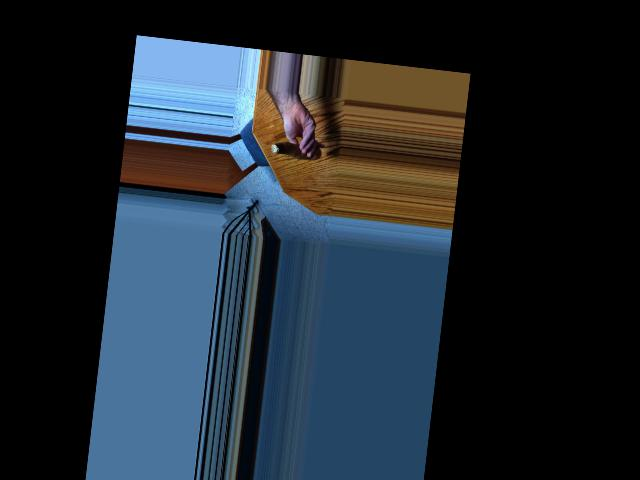sweet_potato: (275, 142, 317, 166)
